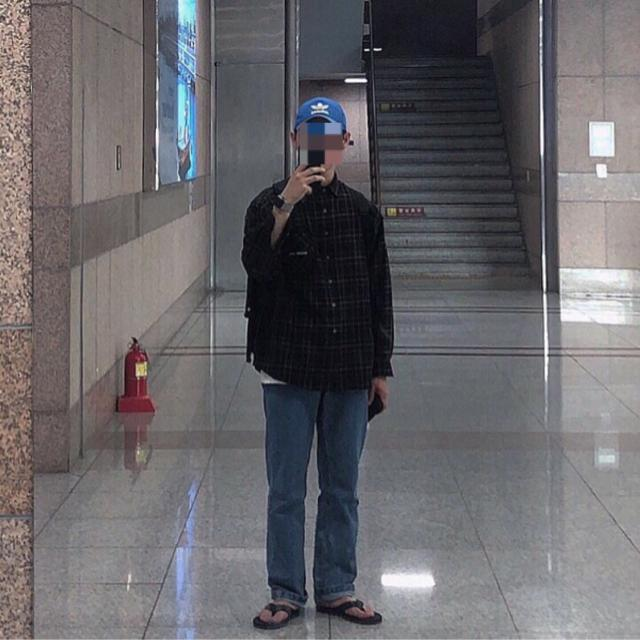denimpants: (264, 377, 370, 608)
shirt: (247, 175, 398, 388)
